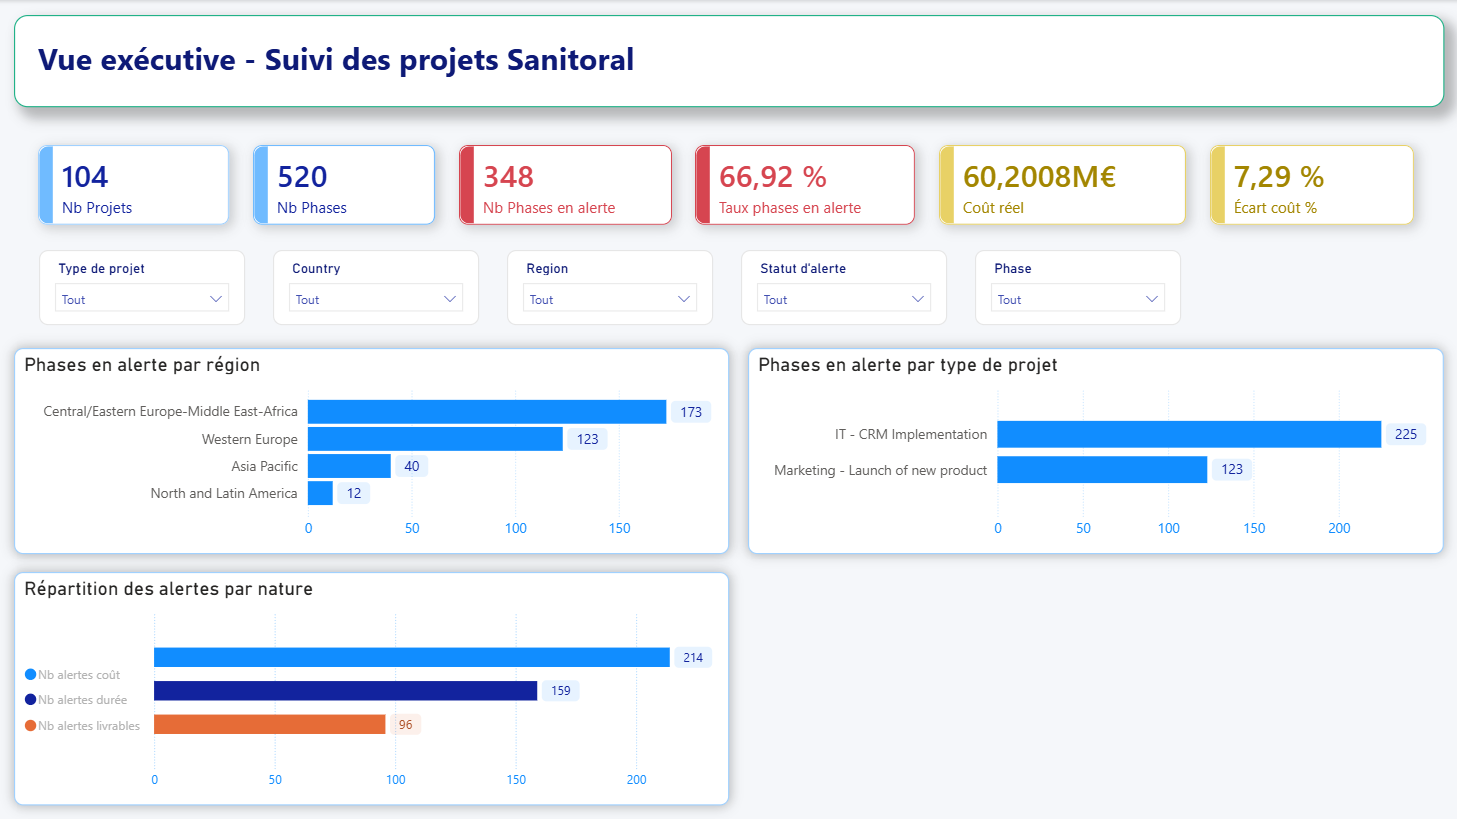

The dashboard page shown, as its layout file describes it:
{"tool":"powerbi","page":{"name":"Vue exécutive","canvas":[1280,720],"ordinal":0},"visuals":[{"type":"cardVisual","fields":{"Data":["Fact_ProjectPhasePerformance.Nb Projets"]},"box":[34.2,127.3,167.7,70.2],"z":0},{"type":"cardVisual","fields":{"Data":["Fact_ProjectPhasePerformance.Nb Phases"]},"box":[222.8,127.3,159.8,70.2],"z":1000},{"type":"cardVisual","fields":{"Data":["Fact_ProjectPhasePerformance.Nb Phases en alerte"]},"box":[403.6,127.3,187,70.2],"z":2000},{"type":"cardVisual","fields":{"Data":["Fact_ProjectPhasePerformance.Taux phases en alerte"]},"box":[611.5,127.3,193.2,70.2],"z":3000},{"type":"cardVisual","fields":{"Data":["Fact_ProjectPhasePerformance.Coût réel"]},"box":[825.5,127.3,216.9,70.2],"z":4000},{"type":"cardVisual","fields":{"Data":["Fact_ProjectPhasePerformance.Écart coût %"]},"box":[1063.3,127.3,179.1,70.2],"z":5000},{"type":"slicer","fields":{"Values":["Fact_ProjectPhasePerformance.Project_Type"]},"box":[35.1,219.5,180.9,65.9],"z":6000},{"type":"slicer","fields":{"Values":["Fact_ProjectPhasePerformance.Country"]},"box":[240.6,219.5,180.9,65.9],"z":7000},{"type":"slicer","fields":{"Values":["Fact_ProjectPhasePerformance.Phase"]},"box":[857,219.5,180.9,65.9],"z":8000},{"type":"slicer","fields":{"Values":["Fact_ProjectPhasePerformance.Alert_Status"]},"box":[651.5,219.5,180.9,65.9],"z":9000},{"type":"slicer","fields":{"Values":["Fact_ProjectPhasePerformance.Region"]},"box":[446,219.5,180.9,65.9],"z":10000},{"type":"clusteredBarChart","fields":{"Category":["Fact_ProjectPhasePerformance.Region"],"Y":["Fact_ProjectPhasePerformance.Nb Phases en alerte"]},"box":[13.2,305.6,627.8,180.9],"z":11000},{"type":"clusteredBarChart","fields":{"Category":["Fact_ProjectPhasePerformance.Project_Type"],"Y":["Fact_ProjectPhasePerformance.Nb Phases en alerte"]},"box":[657.7,305.6,611.1,180.9],"z":12000},{"type":"clusteredBarChart","title":"Répartition des alertes par nature","fields":{"Category":["Fact_ProjectPhasePerformance.Alert_Status"],"Y":["Fact_ProjectPhasePerformance.Nb alertes coût","Fact_ProjectPhasePerformance.Nb alertes durée","Fact_ProjectPhasePerformance.Nb alertes livrables"]},"box":[13.2,502.2,627.8,204.6],"z":13000},{"type":"textbox","title":"Vue exécutive - Suivi des projets Sanitoral","box":[13,13.2,1255.6,80.8],"z":14000}]}

Visuals, with their boxes in screenshot pixels (x1, y1, x2, y2), scaled from the page's 1280x720 canvas onto the 1457x819 screenshot:
cardVisual - Fact_ProjectPhasePerformance.Nb Projets: [x1=39, y1=145, x2=230, y2=225]
cardVisual - Fact_ProjectPhasePerformance.Nb Phases: [x1=254, y1=145, x2=436, y2=225]
cardVisual - Fact_ProjectPhasePerformance.Nb Phases en alerte: [x1=459, y1=145, x2=672, y2=225]
cardVisual - Fact_ProjectPhasePerformance.Taux phases en alerte: [x1=696, y1=145, x2=916, y2=225]
cardVisual - Fact_ProjectPhasePerformance.Coût réel: [x1=940, y1=145, x2=1187, y2=225]
cardVisual - Fact_ProjectPhasePerformance.Écart coût %: [x1=1210, y1=145, x2=1414, y2=225]
slicer - Fact_ProjectPhasePerformance.Project_Type: [x1=40, y1=250, x2=246, y2=325]
slicer - Fact_ProjectPhasePerformance.Country: [x1=274, y1=250, x2=480, y2=325]
slicer - Fact_ProjectPhasePerformance.Phase: [x1=976, y1=250, x2=1181, y2=325]
slicer - Fact_ProjectPhasePerformance.Alert_Status: [x1=742, y1=250, x2=948, y2=325]
slicer - Fact_ProjectPhasePerformance.Region: [x1=508, y1=250, x2=714, y2=325]
clusteredBarChart - Fact_ProjectPhasePerformance.Region x Fact_ProjectPhasePerformance.Nb Phases en alerte: [x1=15, y1=348, x2=730, y2=553]
clusteredBarChart - Fact_ProjectPhasePerformance.Project_Type x Fact_ProjectPhasePerformance.Nb Phases en alerte: [x1=749, y1=348, x2=1444, y2=553]
"Répartition des alertes par nature" clusteredBarChart: [x1=15, y1=571, x2=730, y2=804]
"Vue exécutive - Suivi des projets Sanitoral" textbox: [x1=15, y1=15, x2=1444, y2=107]
